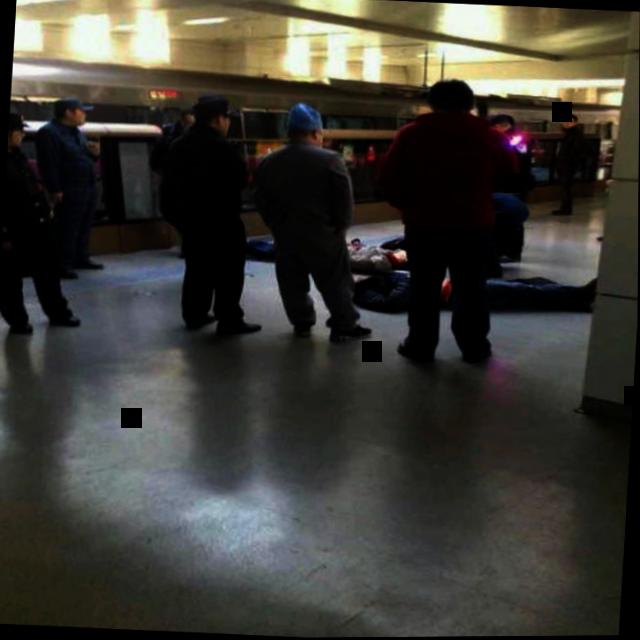Fall-Detected: (307, 225, 609, 351)
